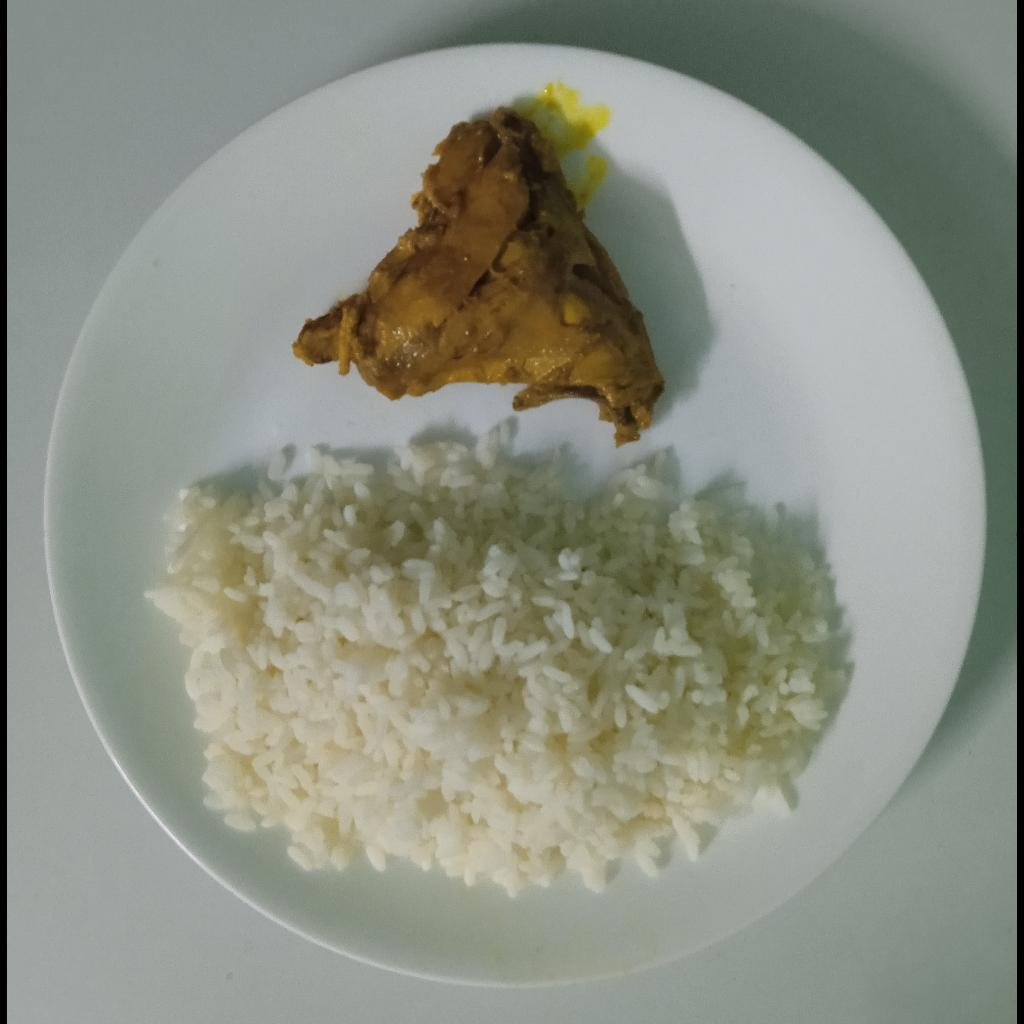chicken: (292, 106, 665, 447)
rice: (141, 422, 846, 901)
